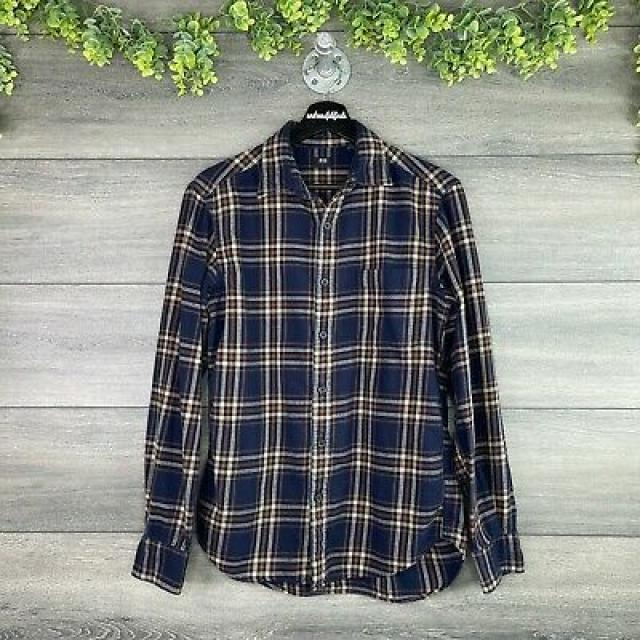plaid: (138, 122, 520, 597)
